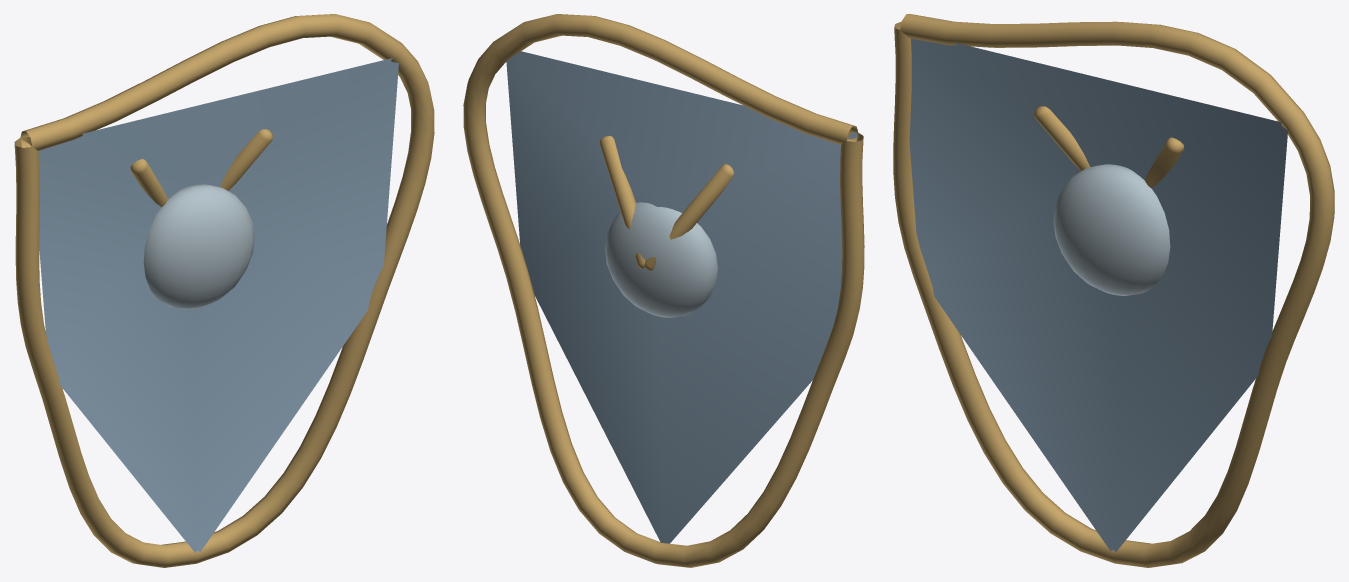
Rendered from dawn_kite_shield.glb.
3 views of the same model, side by side, from view 1: azimuth 30°, elevation 25°; view 2: azimuth 150°, elevation 25°; view 3: azimuth 330°, elevation 25° (orthographic). The views are drawn at different scales.
Parts seen in each view (by area): view 1: Kite shield, Shield edge, Steel boss, Emblem ray.001, Emblem ray; view 2: Kite shield, Shield edge, Steel boss, Emblem ray, Emblem ray.001; view 3: Kite shield, Shield edge, Steel boss, Emblem ray, Emblem ray.001.
Boxes of the visible parts, x1=… form: Kite shield: x1=31, y1=58, x2=398, y2=552; Shield edge: x1=14, y1=14, x2=434, y2=567; Steel boss: x1=143, y1=184, x2=254, y2=309; Emblem ray.001: x1=220, y1=129, x2=273, y2=190; Emblem ray: x1=130, y1=159, x2=167, y2=207; Kite shield: x1=506, y1=51, x2=857, y2=543; Shield edge: x1=463, y1=14, x2=864, y2=567; Steel boss: x1=605, y1=202, x2=718, y2=317; Emblem ray: x1=644, y1=164, x2=733, y2=270; Emblem ray.001: x1=599, y1=135, x2=645, y2=268; Kite shield: x1=909, y1=38, x2=1287, y2=551; Shield edge: x1=893, y1=14, x2=1334, y2=567; Steel boss: x1=1053, y1=164, x2=1170, y2=295; Emblem ray: x1=1034, y1=106, x2=1089, y2=170; Emblem ray.001: x1=1145, y1=137, x2=1184, y2=188.
Bounding box in the file's own units: 0.9507 × 1.17 × 0.1622.
